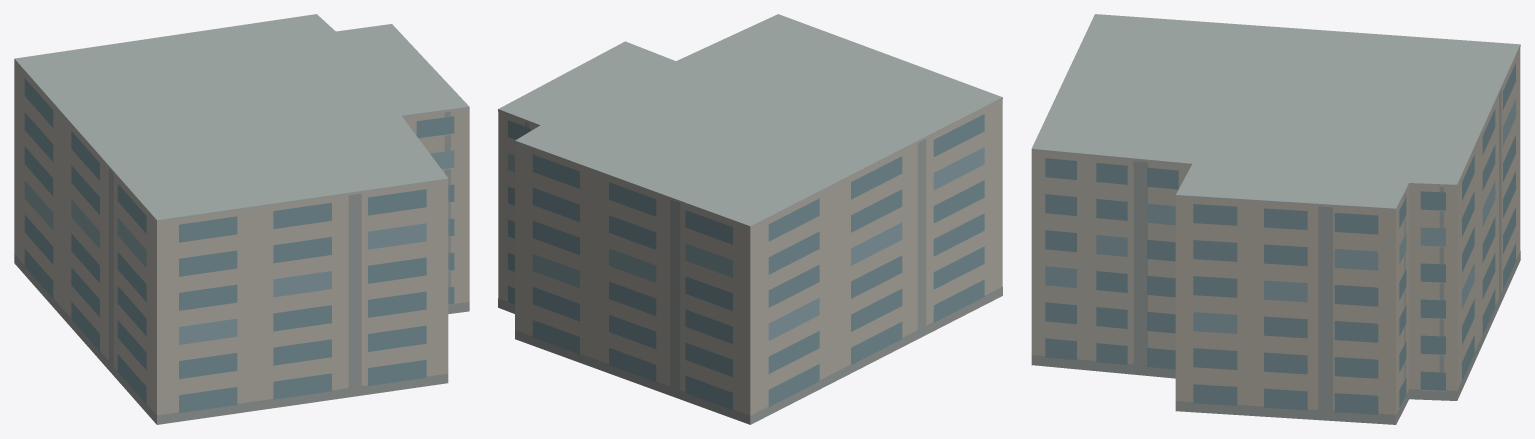
The model's file is survey-upis-32947656.glb.
3 views of the same model, side by side, from view 1: azimuth 30°, elevation 25°; view 2: azimuth 150°, elevation 25°; view 3: azimuth 270°, elevation 25° (orthographic). The views are drawn at different scales.
Visible parts, largest first — view 1: survey-upis-32947656.tmp; view 2: survey-upis-32947656.tmp; view 3: survey-upis-32947656.tmp.
Part boxes in pixels (x1,y1,x2,y2): survey-upis-32947656.tmp: (14,14,469,424); survey-upis-32947656.tmp: (498,14,1002,424); survey-upis-32947656.tmp: (1031,14,1520,424).
Size of the model in its own units: 37.74 by 19.55 by 40.06.
